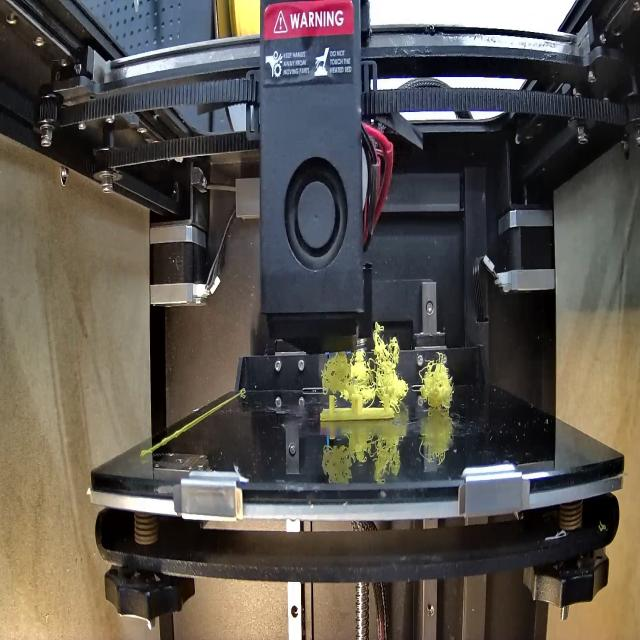spaghetti: (324, 322, 410, 407), (422, 364, 455, 406)
